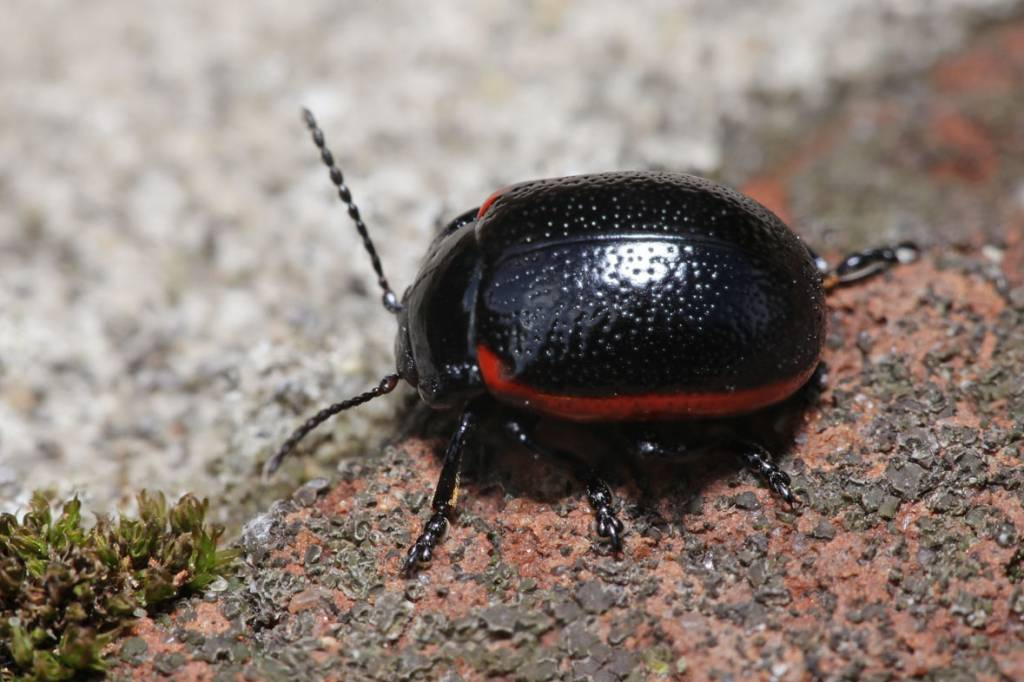Chrysolina_gypsophila: (260, 96, 926, 560)
